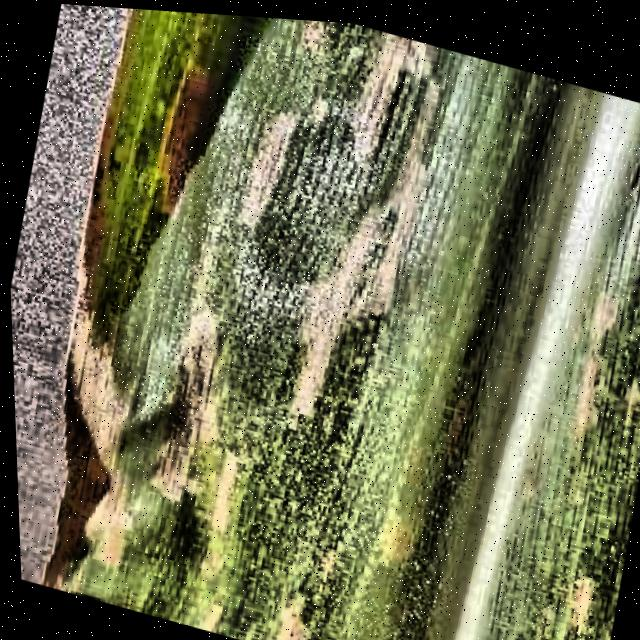gray_spot: (4, 0, 640, 640)
